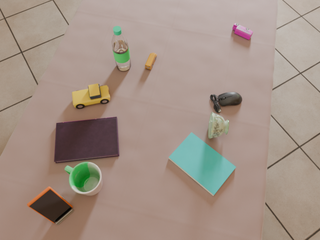book: (169, 133, 236, 196), (54, 117, 119, 163)
bottle: (112, 26, 131, 71)
cup: (65, 162, 102, 195), (208, 112, 229, 139)
mouse: (210, 92, 242, 113)
phone: (27, 187, 72, 223)
toy_car: (72, 84, 110, 109), (233, 24, 253, 40), (145, 53, 157, 70)
